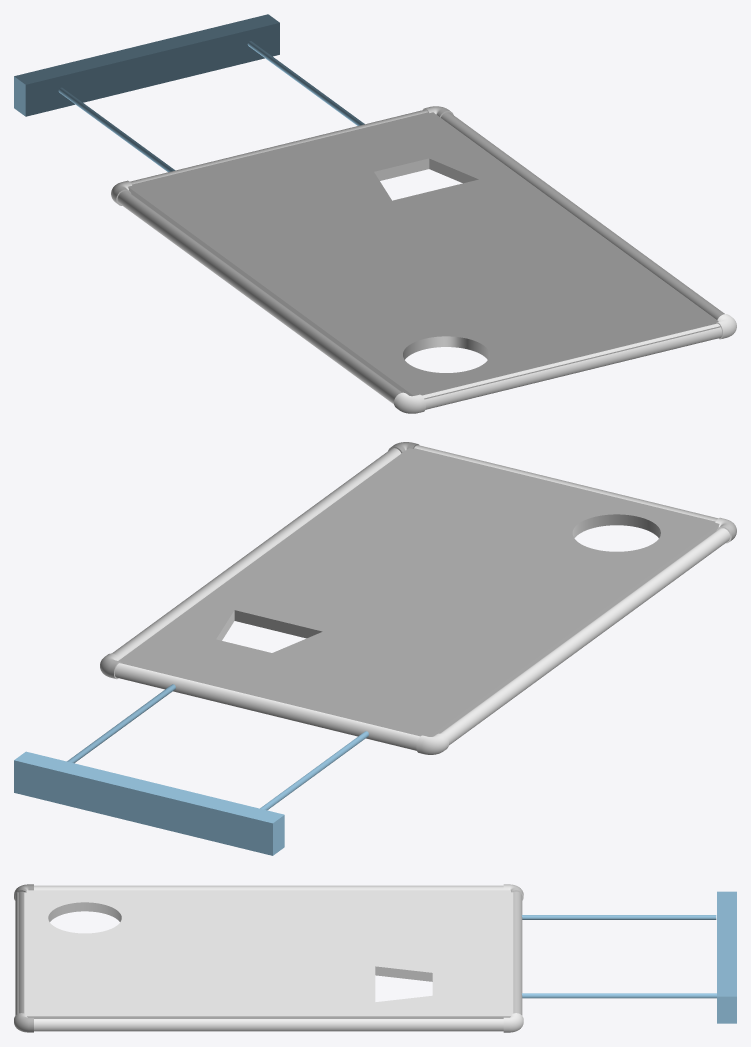
The model's file is torpedo.obj.
3 renders of one model, top to bottom at view 1: azimuth 30°, elevation 25°; view 2: azimuth 150°, elevation 25°; view 3: azimuth 270°, elevation 25°, orthographic. The views are drawn at different scales.
Parts seen in each view (by area): view 1: mesh31, mesh27, mesh7, mesh19, mesh3, mesh1, mesh35, mesh29, mesh12; view 2: mesh31, mesh27, mesh8, mesh19, mesh3, mesh1, mesh35, mesh29, mesh39, mesh12; view 3: mesh31, mesh27, mesh19, mesh1, mesh3, mesh33, mesh29, mesh12, mesh36, mesh6.
Part boxes in pixels (x1,y1,x2,y2): mesh31: (128, 112, 720, 398); mesh27: (117, 112, 724, 404); mesh7: (25, 23, 279, 116); mesh19: (130, 109, 722, 409); mesh3: (14, 14, 279, 84); mesh1: (58, 41, 364, 172); mesh35: (128, 187, 413, 396); mesh29: (403, 336, 489, 359); mesh12: (111, 106, 736, 413); mesh31: (118, 445, 718, 736); mesh27: (112, 448, 730, 745); mesh8: (14, 760, 272, 855); mesh19: (114, 445, 717, 750); mesh3: (14, 751, 284, 823); mesh1: (67, 684, 368, 810); mesh35: (429, 524, 719, 736); mesh29: (572, 514, 660, 538); mesh39: (234, 610, 322, 638); mesh12: (100, 442, 736, 754); mesh31: (17, 890, 513, 1016); mesh27: (34, 885, 503, 1031); mesh19: (15, 891, 522, 1015); mesh1: (521, 915, 716, 998); mesh3: (717, 891, 736, 996); mesh33: (27, 1016, 510, 1018); mesh29: (48, 902, 121, 921); mesh12: (14, 884, 523, 1032); mesh36: (375, 966, 432, 981); mesh6: (717, 996, 736, 1023).
Size of the model in its own units: 0.8434 by 0.0762 by 1.85.
